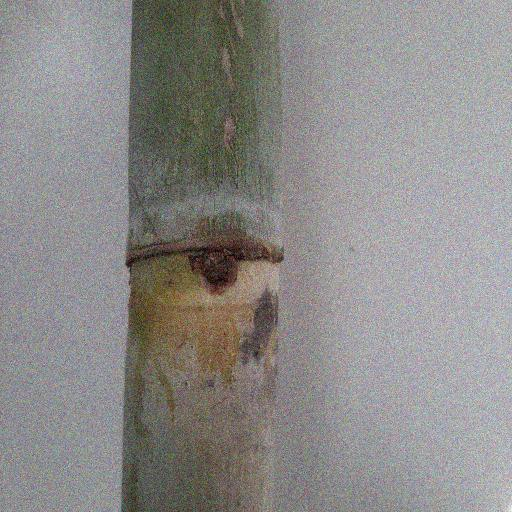Bud: (200, 253, 230, 285)
